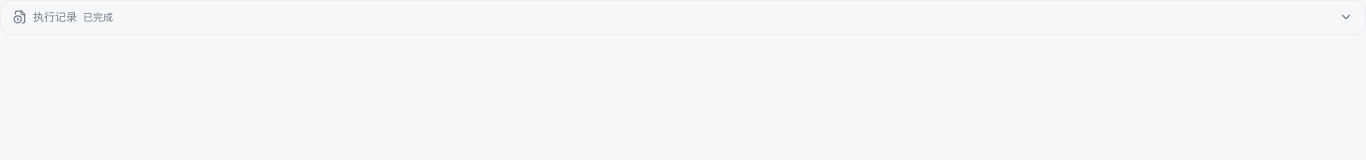
it: TraceTimeline › shows provider token usage as a factual runtime event
Click the button "执行记录 已完成" at (55, 17), box [13,9,1353,26]
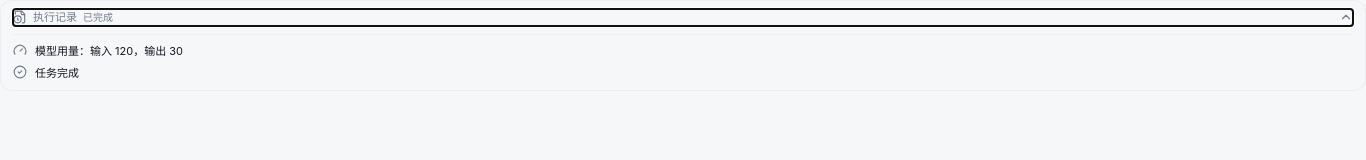
Expected: the text "模型用量：输入 120，输出 30" is shown, [35,42,183,59]
